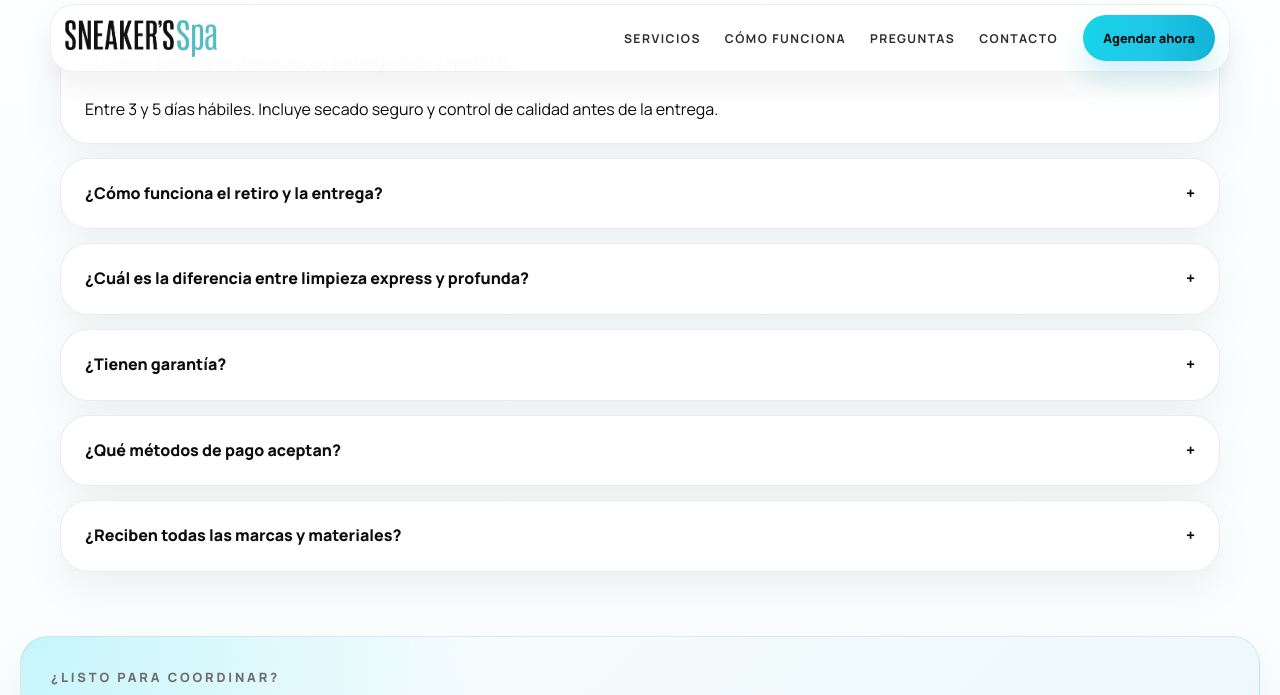
Test: App › tracks faq interaction when a question is toggled
(page scrolled)
Click the button "¿Qué métodos de pago aceptan? +" at x=213, y=450, box [61, 416, 1219, 485]
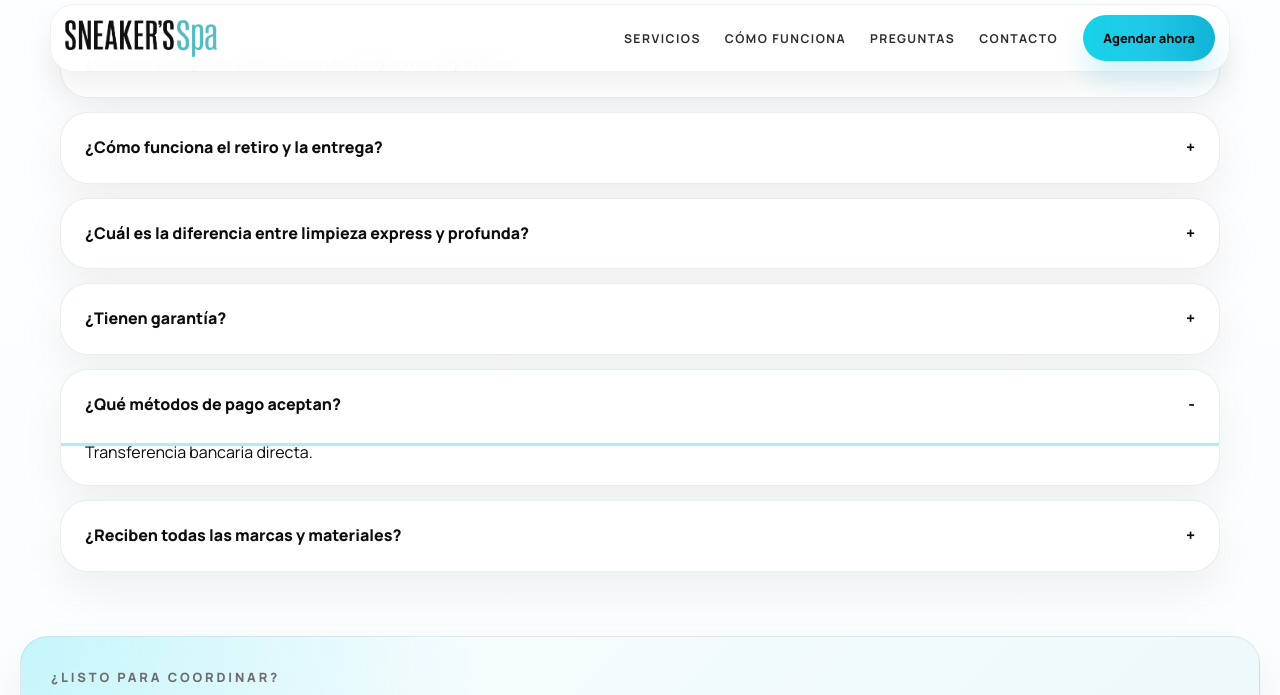
Expected: the text "Transferencia bancaria directa." is shown, [85, 441, 313, 463]
